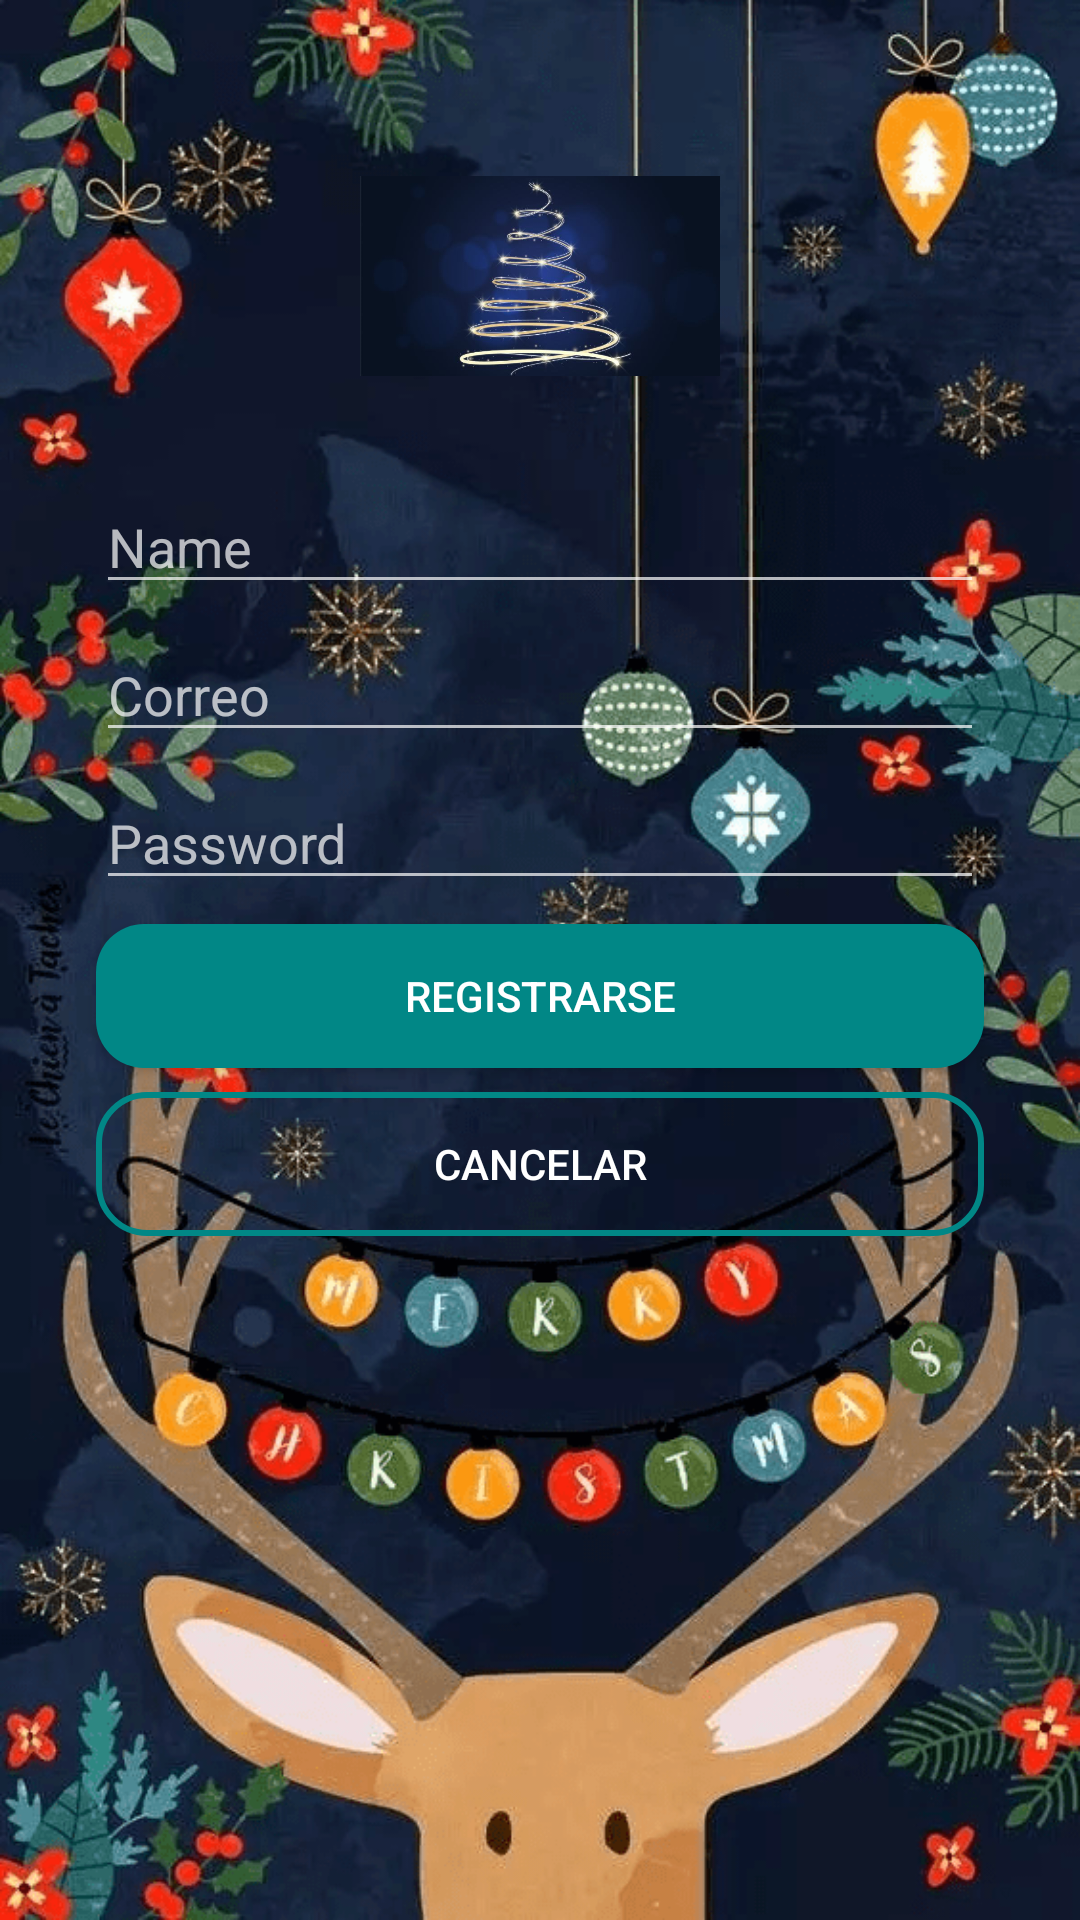

Point at icon controls on the screen. Image size 1080×1920, points as (x=x, y=y).
navidad: (x=540, y=276)
